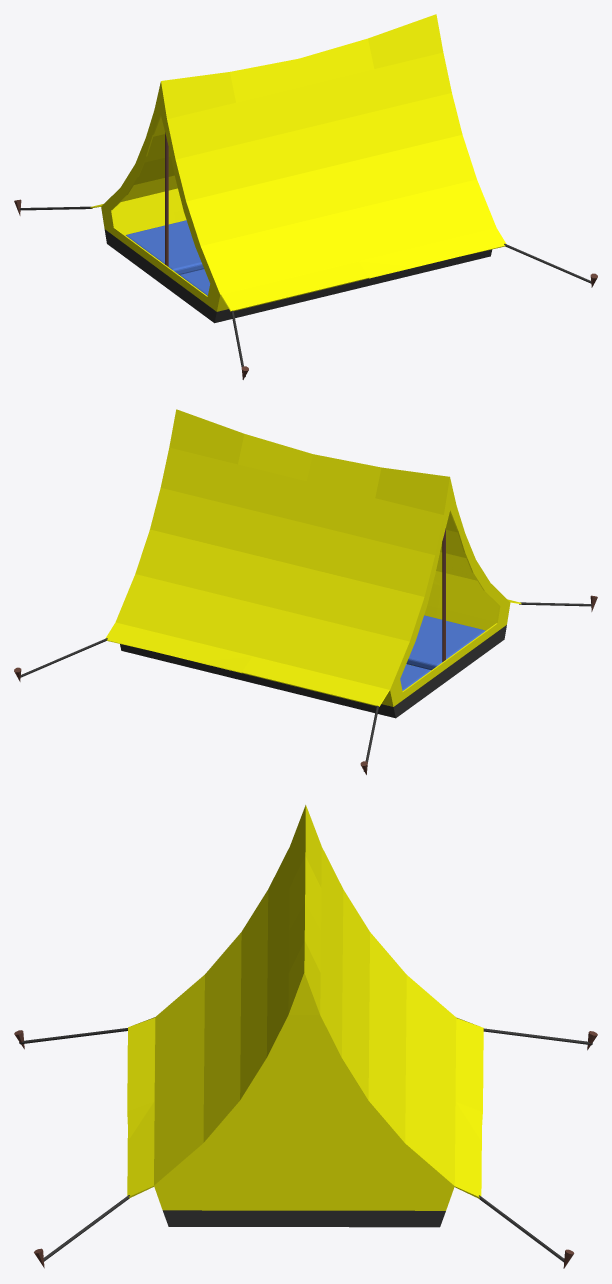
Rendered from çadır.fbx.
3 views of the same model, one above another, from view 1: azimuth 30°, elevation 25°; view 2: azimuth 150°, elevation 25°; view 3: azimuth 270°, elevation 25° (orthographic). The views are drawn at different scales.
Visible parts, largest first — view 1: Cadır.001; view 2: Cadır.001; view 3: Cadır.001.
Part boxes in pixels (<box>): Cadır.001: <box>14,14,597,379</box>; Cadır.001: <box>14,409,597,774</box>; Cadır.001: <box>14,805,597,1268</box>.
Bounding box in the file's own units: 291 × 161 × 322.
